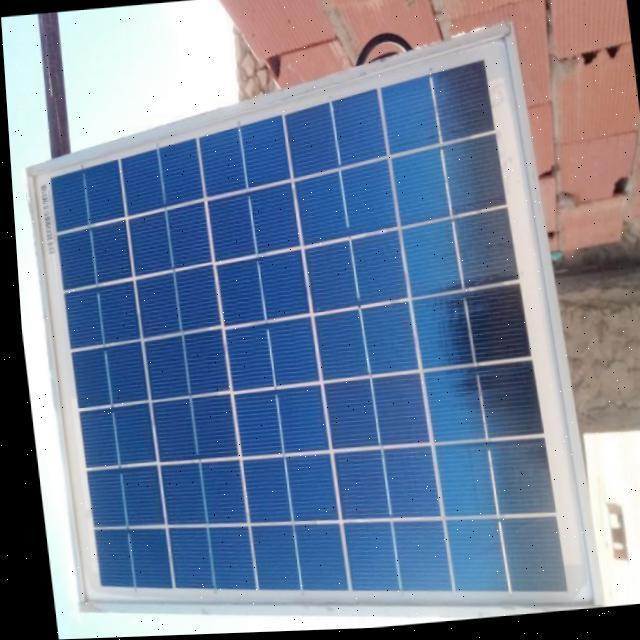Normal Solar Panel: (11, 18, 594, 640)
